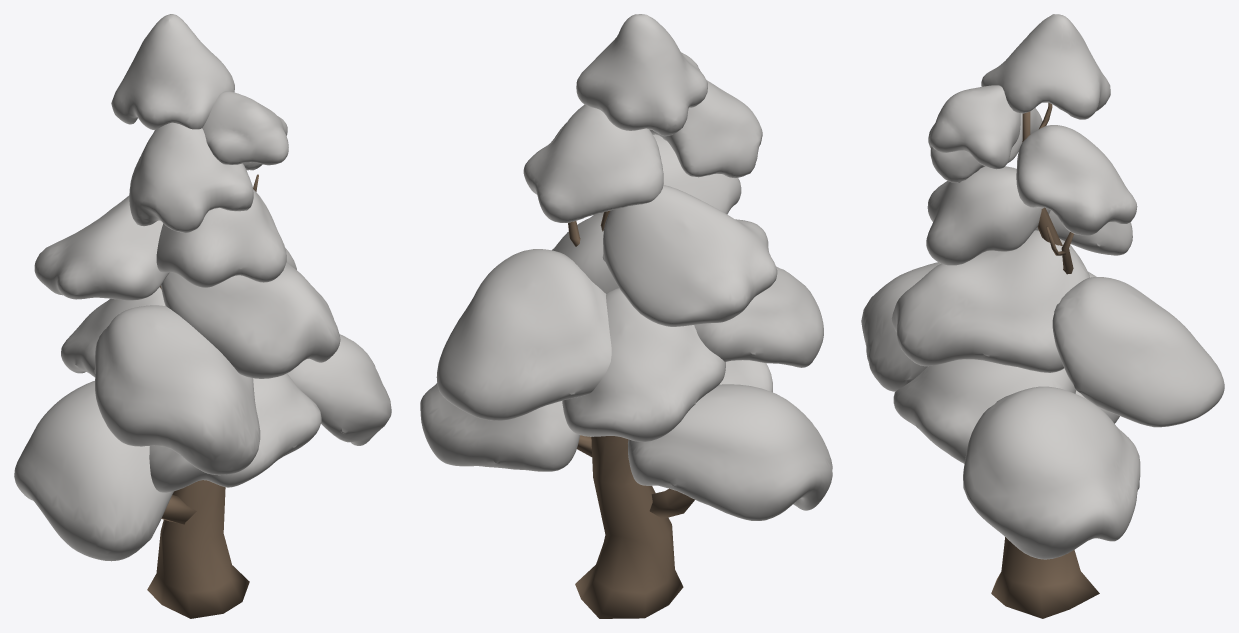
File: Tree_003.fbx
The picture shows the model from 3 angles, left to right: view 1: azimuth 30°, elevation 25°; view 2: azimuth 150°, elevation 25°; view 3: azimuth 270°, elevation 25°; orthographic projection. The views are drawn at different scales.
Parts seen in each view (by area): view 1: Tree.003; view 2: Tree.003; view 3: Tree.003.
Boxes of the visible parts, x1=… form: Tree.003: x1=14, y1=14, x2=391, y2=618; Tree.003: x1=420, y1=14, x2=832, y2=618; Tree.003: x1=861, y1=14, x2=1224, y2=618.
Bounding box in the file's own units: 658 × 998 × 578.
